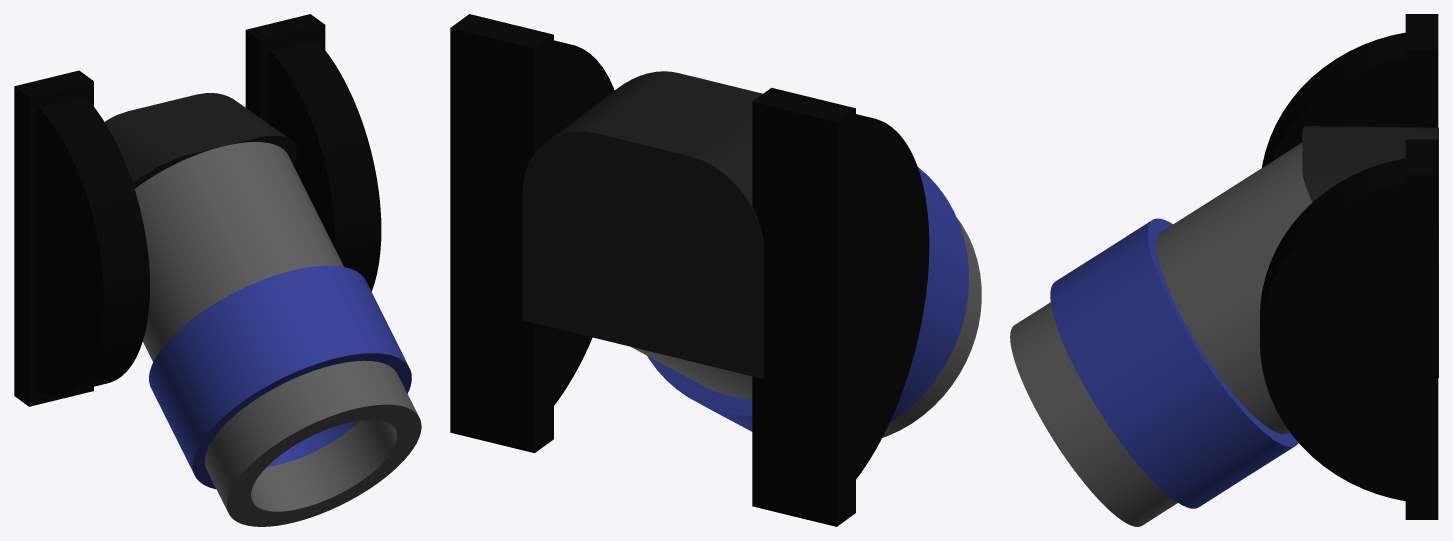
The model's file is Mortar.fbx.
3 views of the same model, side by side, from view 1: azimuth 30°, elevation 25°; view 2: azimuth 150°, elevation 25°; view 3: azimuth 270°, elevation 25° (orthographic). The views are drawn at different scales.
Visible parts, largest first — view 1: Body5, Body7, Body1, Body8, Body6, Body4; view 2: Body5, Body4, Body6, Body7, Body8, Body1; view 3: Body6, Body7, Body1, Body5, Body8, Body4.
Boxes of the visible parts, left/top/right/bottom form: Body5: left=14, top=70, right=149, bottom=406; Body7: left=149, top=265, right=411, bottom=489; Body1: left=134, top=142, right=343, bottom=361; Body8: left=205, top=360, right=421, bottom=526; Body6: left=245, top=14, right=381, bottom=291; Body4: left=105, top=93, right=296, bottom=188; Body5: left=752, top=87, right=929, bottom=526; Body4: left=522, top=71, right=764, bottom=378; Body6: left=450, top=14, right=614, bottom=453; Body7: left=647, top=167, right=968, bottom=431; Body8: left=882, top=217, right=981, bottom=437; Body1: left=631, top=347, right=752, bottom=398; Body6: left=1260, top=139, right=1438, bottom=519; Body7: left=1050, top=218, right=1298, bottom=508; Body1: left=1156, top=143, right=1312, bottom=434; Body5: left=1262, top=14, right=1438, bottom=167; Body8: left=1010, top=302, right=1177, bottom=526; Body4: left=1302, top=126, right=1438, bottom=377.
Bounding box in the file's own units: 64 × 77.79 × 72.1.
